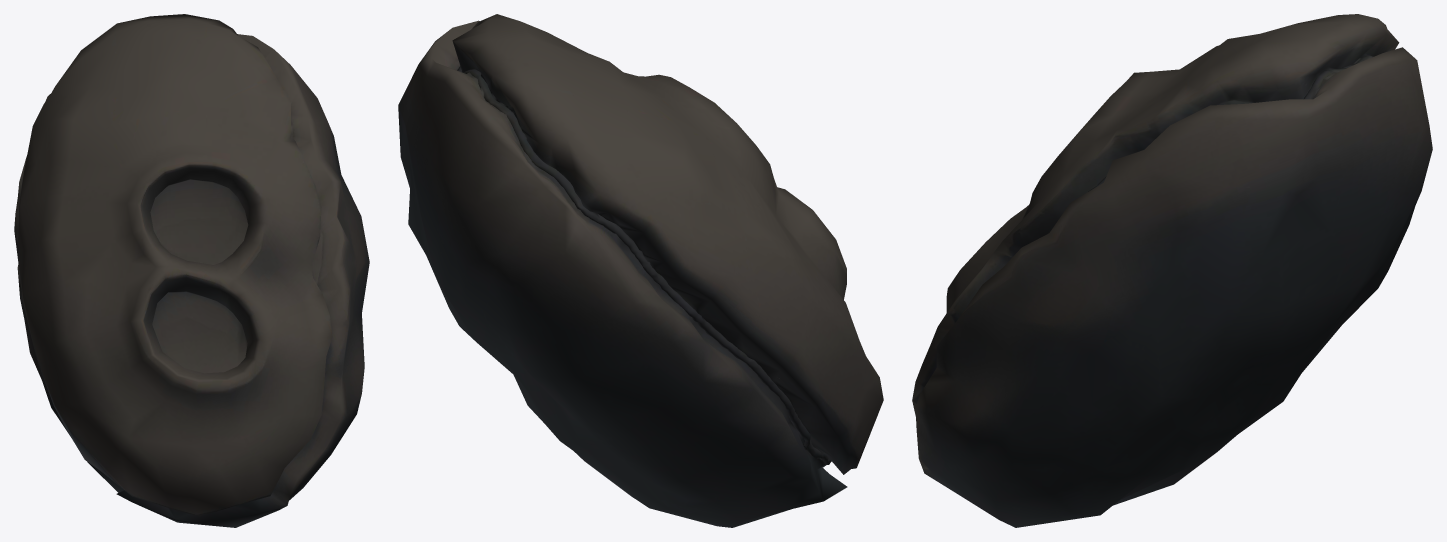
The model's file is original_glb.glb.
3 renders of one model, left to right at view 1: azimuth 30°, elevation 25°; view 2: azimuth 150°, elevation 25°; view 3: azimuth 270°, elevation 25°, orthographic. The views are drawn at different scales.
Visible parts, largest first — view 1: Large Carbonaceous Asteroid; view 2: Large Carbonaceous Asteroid; view 3: Large Carbonaceous Asteroid.
Part boxes in pixels (<box>): Large Carbonaceous Asteroid: <box>14,14,369,527</box>; Large Carbonaceous Asteroid: <box>398,14,883,527</box>; Large Carbonaceous Asteroid: <box>912,14,1432,527</box>.
Bounding box in the file's own units: 0.7832 × 0.998 × 0.9121.
1 material, 1 textured.
